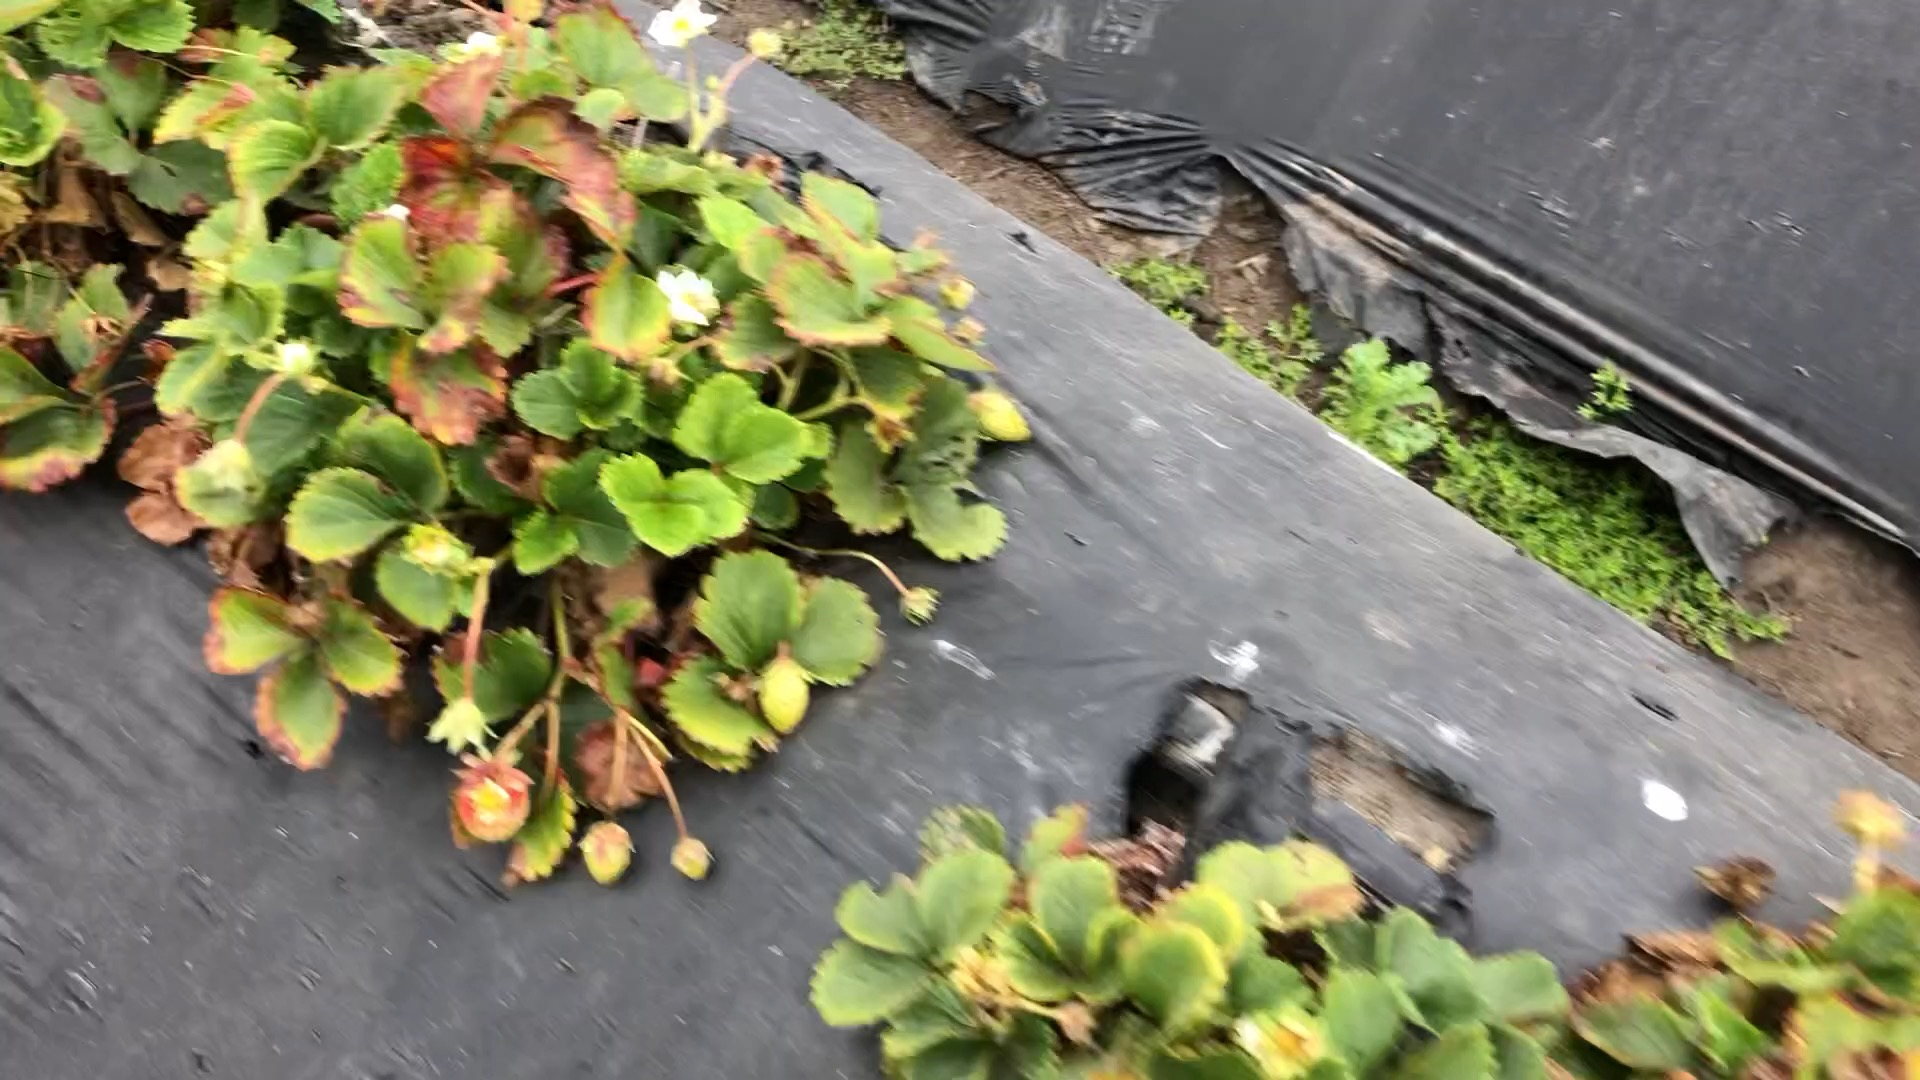unripe_strawberry: (451, 752, 535, 847), (756, 647, 814, 735), (578, 819, 632, 891), (669, 835, 713, 884)
